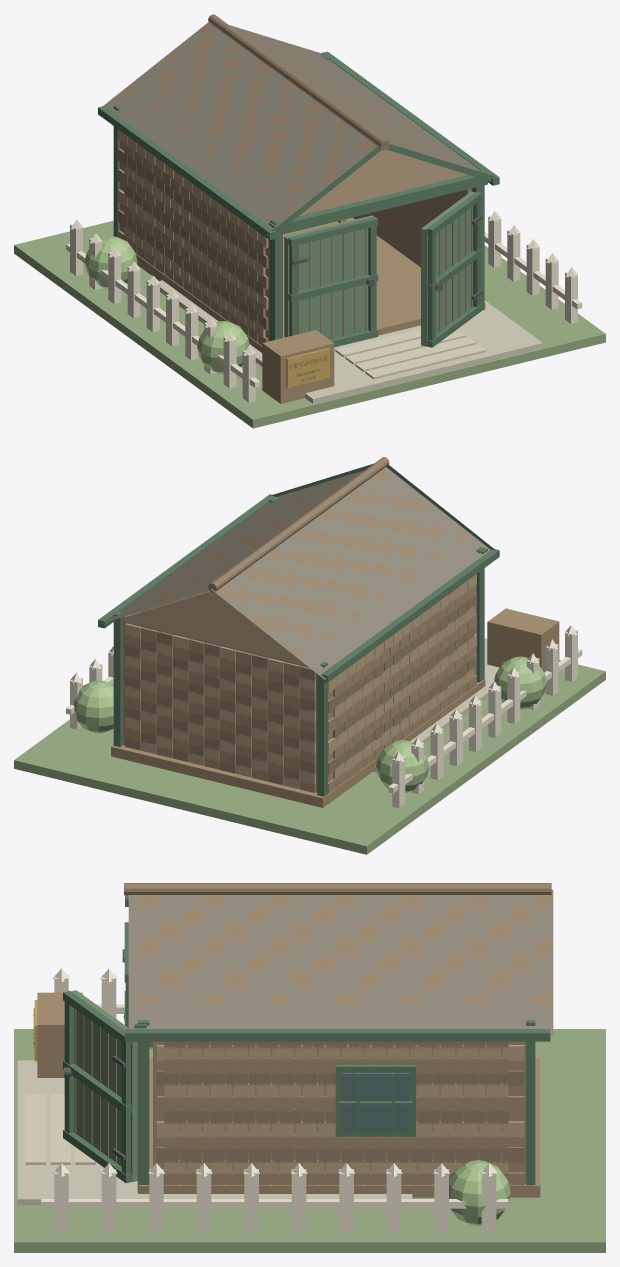
The model's file is hp-garage.glb.
3 renders of one model, top to bottom at view 1: azimuth 30°, elevation 25°; view 2: azimuth 150°, elevation 25°; view 3: azimuth 270°, elevation 25°, orthographic. The views are drawn at different scales.
Parts seen in each view (by area): view 1: Roof Cedar, Cedar Shade, Green Trim, Grass Edge, Door Green, Ivory, Cedar Light, Cedar, Stone Dark, Gravel, Paving, Lawn (+1 smaller); view 2: Roof Cedar, Cedar Shade, Grass Edge, Cedar Light, Cedar, Green Trim, Ivory, Stone Dark, Lawn, Gravel; view 3: Roof Cedar, Grass Edge, Cedar Shade, Cedar, Green Trim, Cedar Light, Ivory, Gravel, Stone Dark, Door Green, Glass Dark, Paving (+1 smaller).
Boxes of the visible parts, x1,y1,x2,y2 form: Roof Cedar: [103, 25, 478, 229]; Cedar Shade: [118, 14, 472, 338]; Green Trim: [98, 51, 499, 347]; Grass Edge: [14, 220, 605, 428]; Door Green: [284, 191, 475, 346]; Ivory: [66, 211, 582, 402]; Cedar Light: [118, 129, 467, 338]; Cedar: [118, 141, 471, 345]; Stone Dark: [112, 217, 485, 403]; Gravel: [159, 280, 542, 403]; Paving: [335, 328, 486, 379]; Lawn: [84, 236, 249, 373]; Roof Cedar: [99, 467, 490, 679]; Cedar Shade: [124, 457, 476, 785]; Grass Edge: [14, 660, 605, 854]; Cedar Light: [122, 574, 476, 788]; Cedar: [123, 585, 476, 793]; Green Trim: [98, 463, 499, 796]; Ivory: [66, 625, 582, 808]; Stone Dark: [111, 608, 559, 807]; Lawn: [73, 656, 546, 792]; Gravel: [373, 638, 499, 772]; Roof Cedar: [128, 895, 553, 1036]; Grass Edge: [14, 1029, 605, 1252]; Cedar Shade: [75, 883, 553, 1163]; Cedar: [153, 1041, 525, 1185]; Green Trim: [63, 895, 550, 1192]; Cedar Light: [157, 1045, 524, 1175]; Ivory: [41, 968, 508, 1231]; Gravel: [17, 1060, 412, 1205]; Stone Dark: [33, 992, 540, 1197]; Door Green: [71, 990, 137, 1181]; Glass Dark: [341, 1073, 409, 1131]; Paving: [25, 1094, 95, 1164].
Size of the model in its own units: 6.9 by 3.96 by 8.1.
